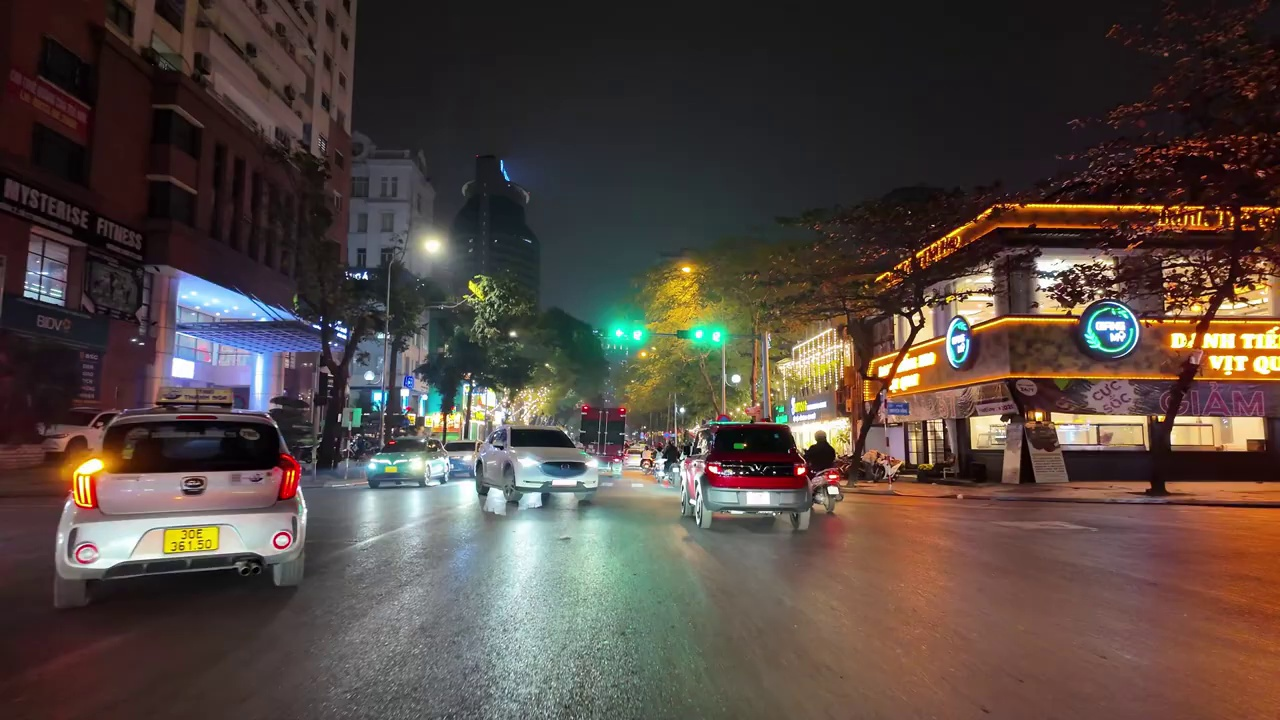acesa: (666, 263, 698, 298), (416, 229, 447, 260)
